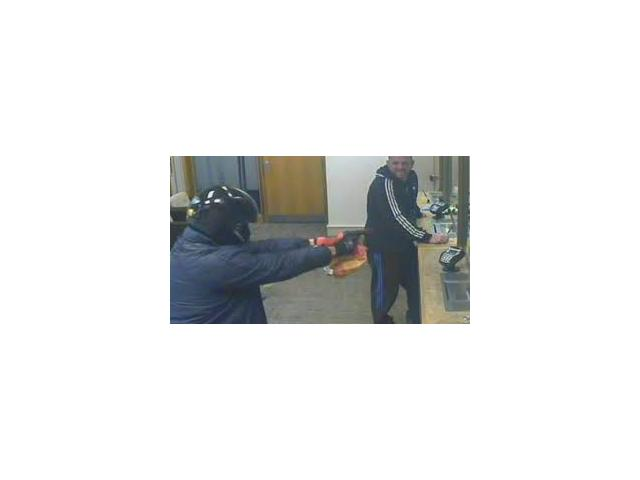pistol: (332, 227, 380, 256)
